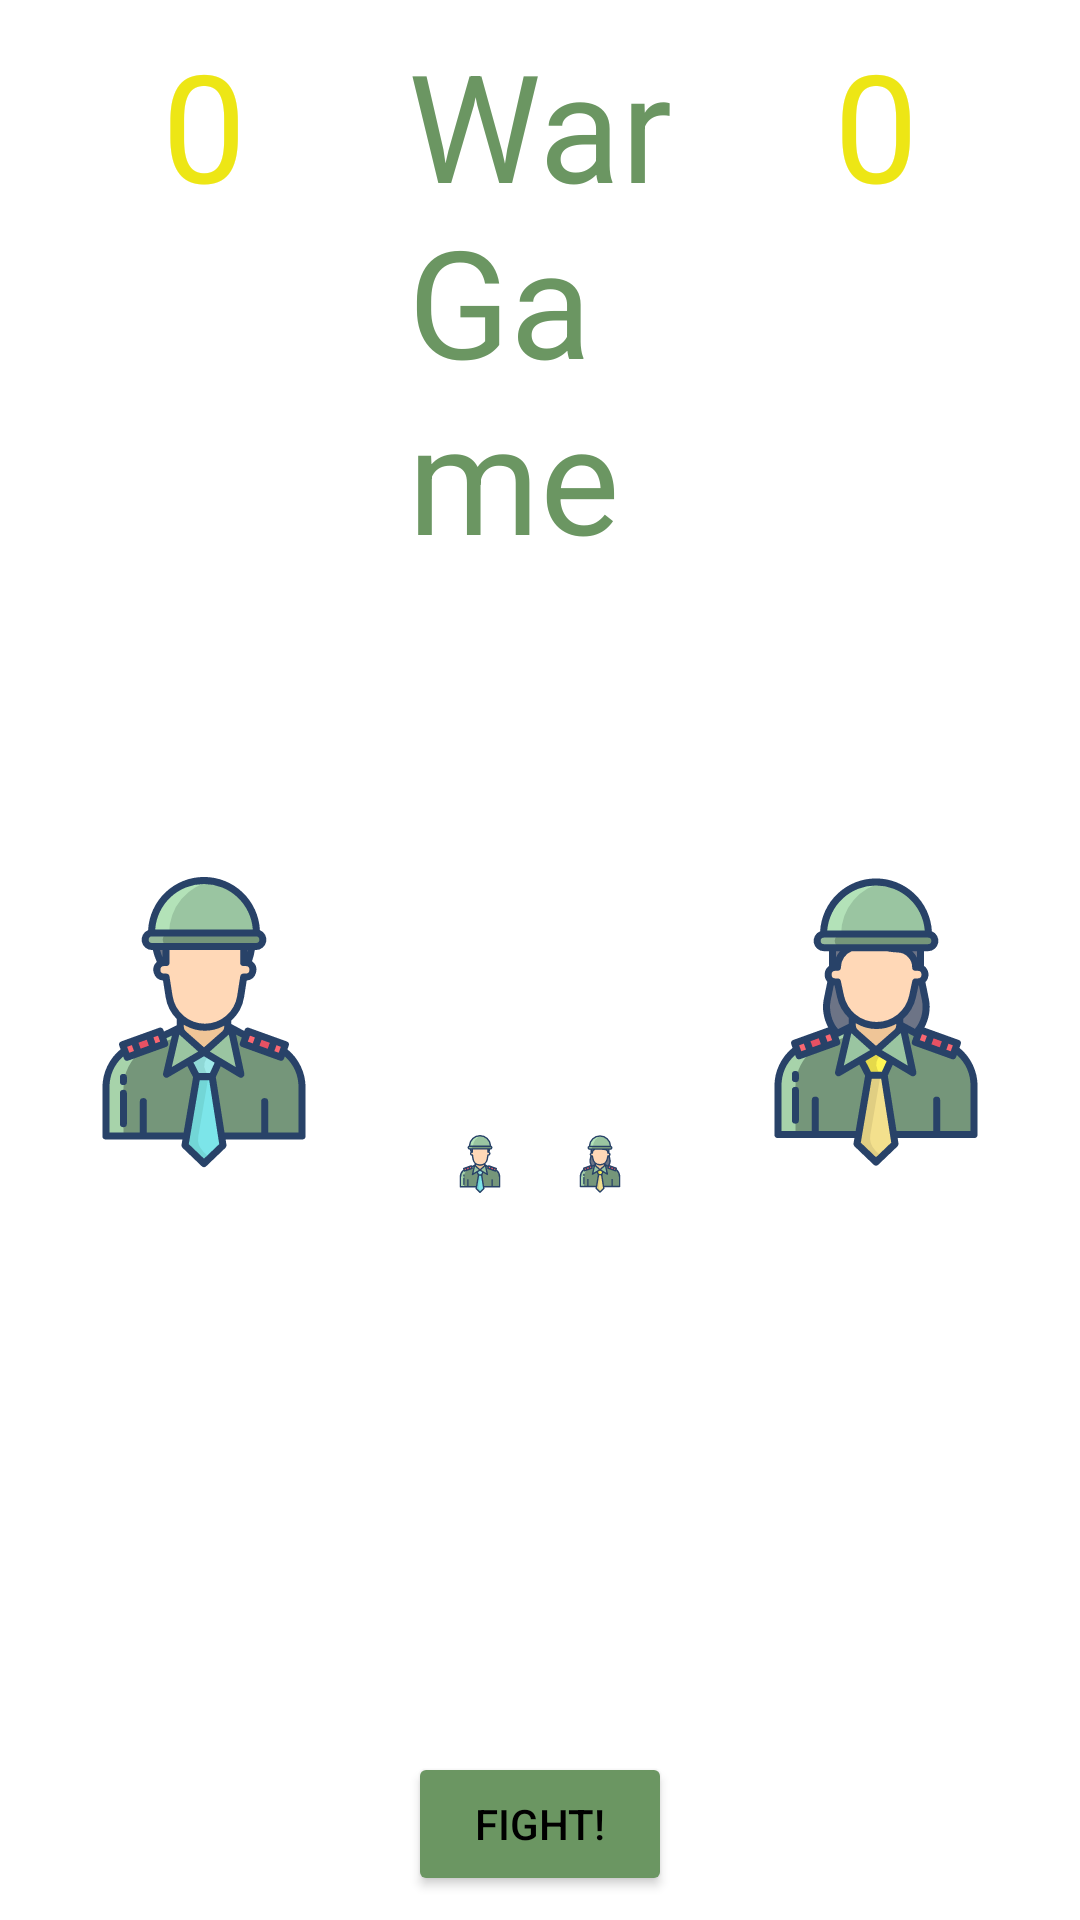

Named icons in this screenshot (1080x1920) and their bounding boxes, [left=x1, top=y1, right=x2, bottom=y2]:
player boy: [left=102, top=877, right=306, bottom=1168], [left=459, top=1135, right=501, bottom=1193]
player girl: [left=774, top=878, right=978, bottom=1166], [left=579, top=1135, right=621, bottom=1193]
